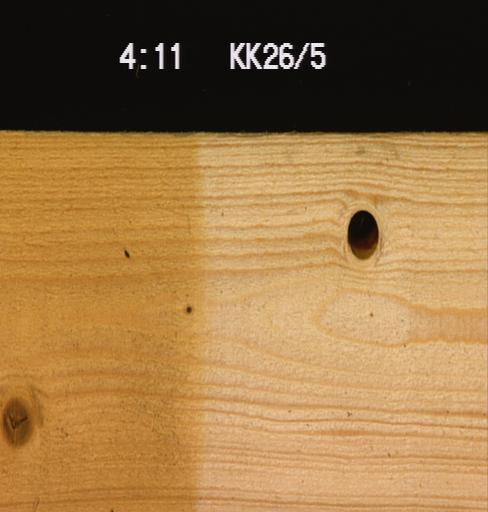small_knot: (181, 298, 196, 317)
sound_knot: (0, 392, 34, 451)
